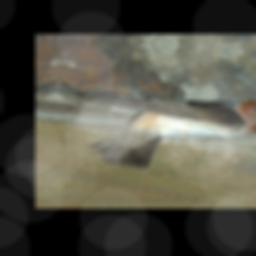Swallow: (54, 80, 256, 182)
